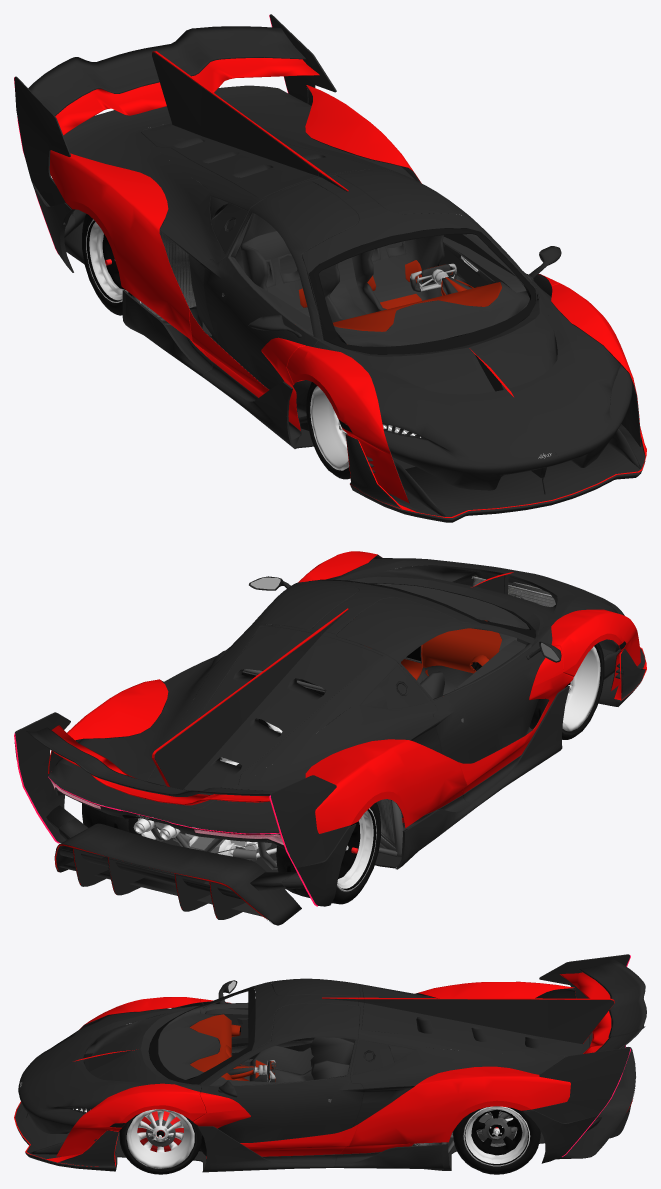
Rendered from car_abyss_hi.glb.
The picture shows the model from 3 angles, top to bottom: view 1: azimuth 30°, elevation 25°; view 2: azimuth 150°, elevation 25°; view 3: azimuth 270°, elevation 25°; orthographic projection. The views are drawn at different scales.
Parts seen in each view (by area): view 1: Object_67, Object_79, Object_80, Object_100, Object_78, Object_57, Object_64, Object_69, Object_68, Object_105, Object_45, Object_55 (+11 smaller); view 2: Object_79, Object_78, Object_80, Object_75, Object_57, Object_100, Object_55, Object_68, Object_69, Object_67, WheelRearL, Object_46 (+16 smaller); view 3: Object_79, Object_80, Object_100, Object_57, Object_67, Object_55, Object_68, Object_78, Object_69, WheelRearR, WheelFrontR, Object_105 (+13 smaller).
Boxes of the visible parts, left/top/right/bottom form: Object_67: left=314, top=287, right=632, bottom=494; Object_79: left=71, top=52, right=420, bottom=378; Object_80: left=49, top=51, right=421, bottom=359; Object_100: left=14, top=14, right=336, bottom=272; Object_78: left=50, top=85, right=414, bottom=343; Object_57: left=189, top=170, right=561, bottom=448; Object_64: left=345, top=424, right=645, bottom=522; Object_69: left=294, top=289, right=640, bottom=502; Object_68: left=287, top=283, right=640, bottom=503; Object_105: left=240, top=228, right=447, bottom=322; Object_45: left=229, top=212, right=529, bottom=346; Object_55: left=201, top=256, right=539, bottom=412; Object_79: left=49, top=624, right=476, bottom=869; Object_78: left=48, top=660, right=441, bottom=848; Object_80: left=48, top=627, right=466, bottom=833; Object_75: left=46, top=805, right=304, bottom=925; Object_57: left=249, top=576, right=569, bottom=807; Object_100: left=14, top=712, right=356, bottom=906; Object_55: left=201, top=639, right=545, bottom=763; Object_68: left=298, top=551, right=640, bottom=690; Object_69: left=326, top=555, right=620, bottom=690; Object_67: left=328, top=558, right=624, bottom=652; WheelRearL: left=276, top=802, right=380, bottom=904; Object_46: left=401, top=620, right=501, bottom=680; Object_79: left=333, top=984, right=614, bottom=1170; Object_80: left=339, top=981, right=614, bottom=1154; Object_100: left=523, top=954, right=646, bottom=1163; Object_57: left=198, top=978, right=360, bottom=1172; Object_67: left=18, top=1005, right=201, bottom=1133; Object_55: left=200, top=1058, right=363, bottom=1142; Object_68: left=56, top=997, right=205, bottom=1157; Object_78: left=350, top=995, right=625, bottom=1126; Object_69: left=19, top=1002, right=202, bottom=1113; WheelRearR: left=452, top=1106, right=540, bottom=1174; WheelFrontR: left=119, top=1109, right=201, bottom=1174; Object_105: left=249, top=1037, right=354, bottom=1082.
Bounding box in the file's own units: 2.38 × 1.3 × 5.58.
Materials: 28 (2 with a texture image).
